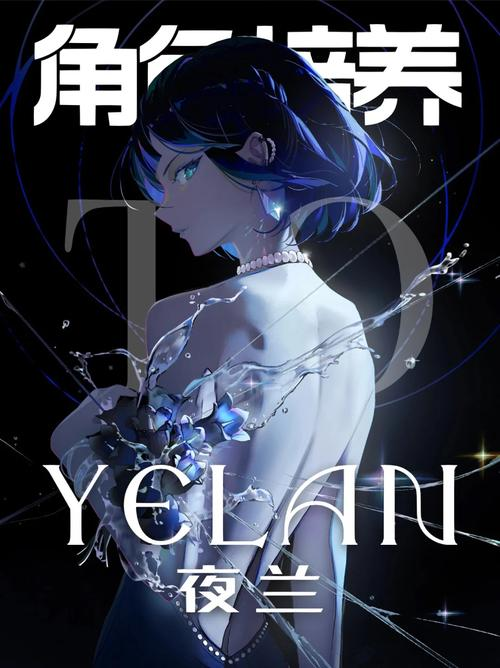夜兰: (52, 43, 381, 668)
